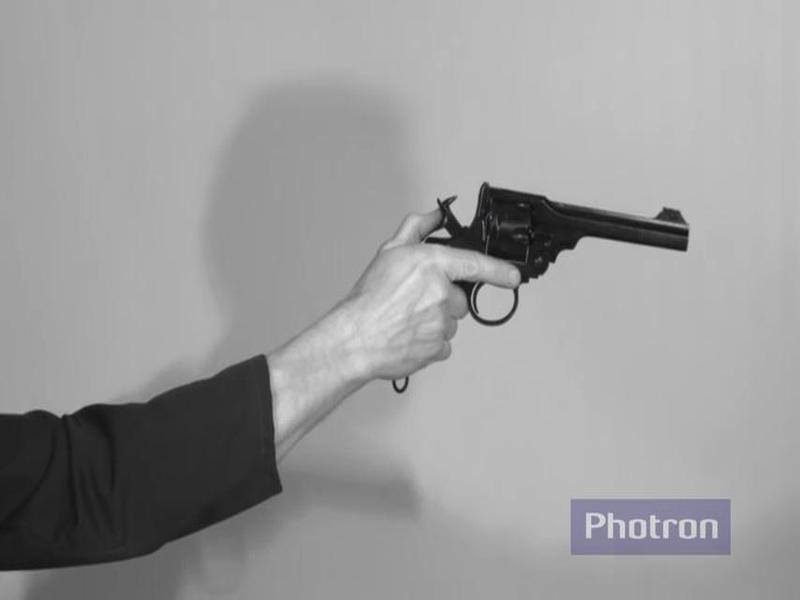Revolver: (393, 164, 710, 353)
